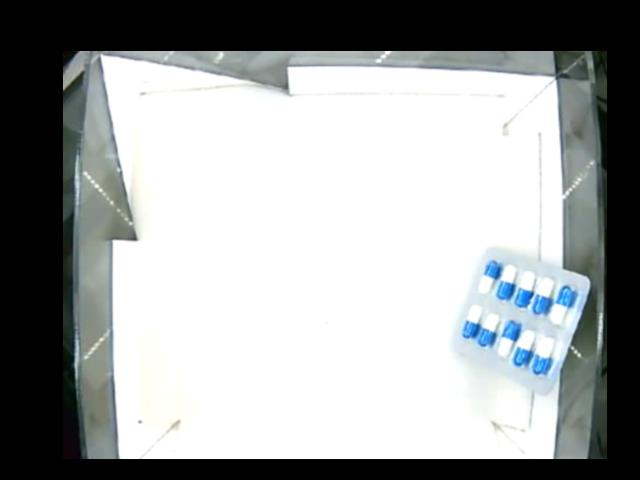Medicine: (453, 245, 590, 394)
